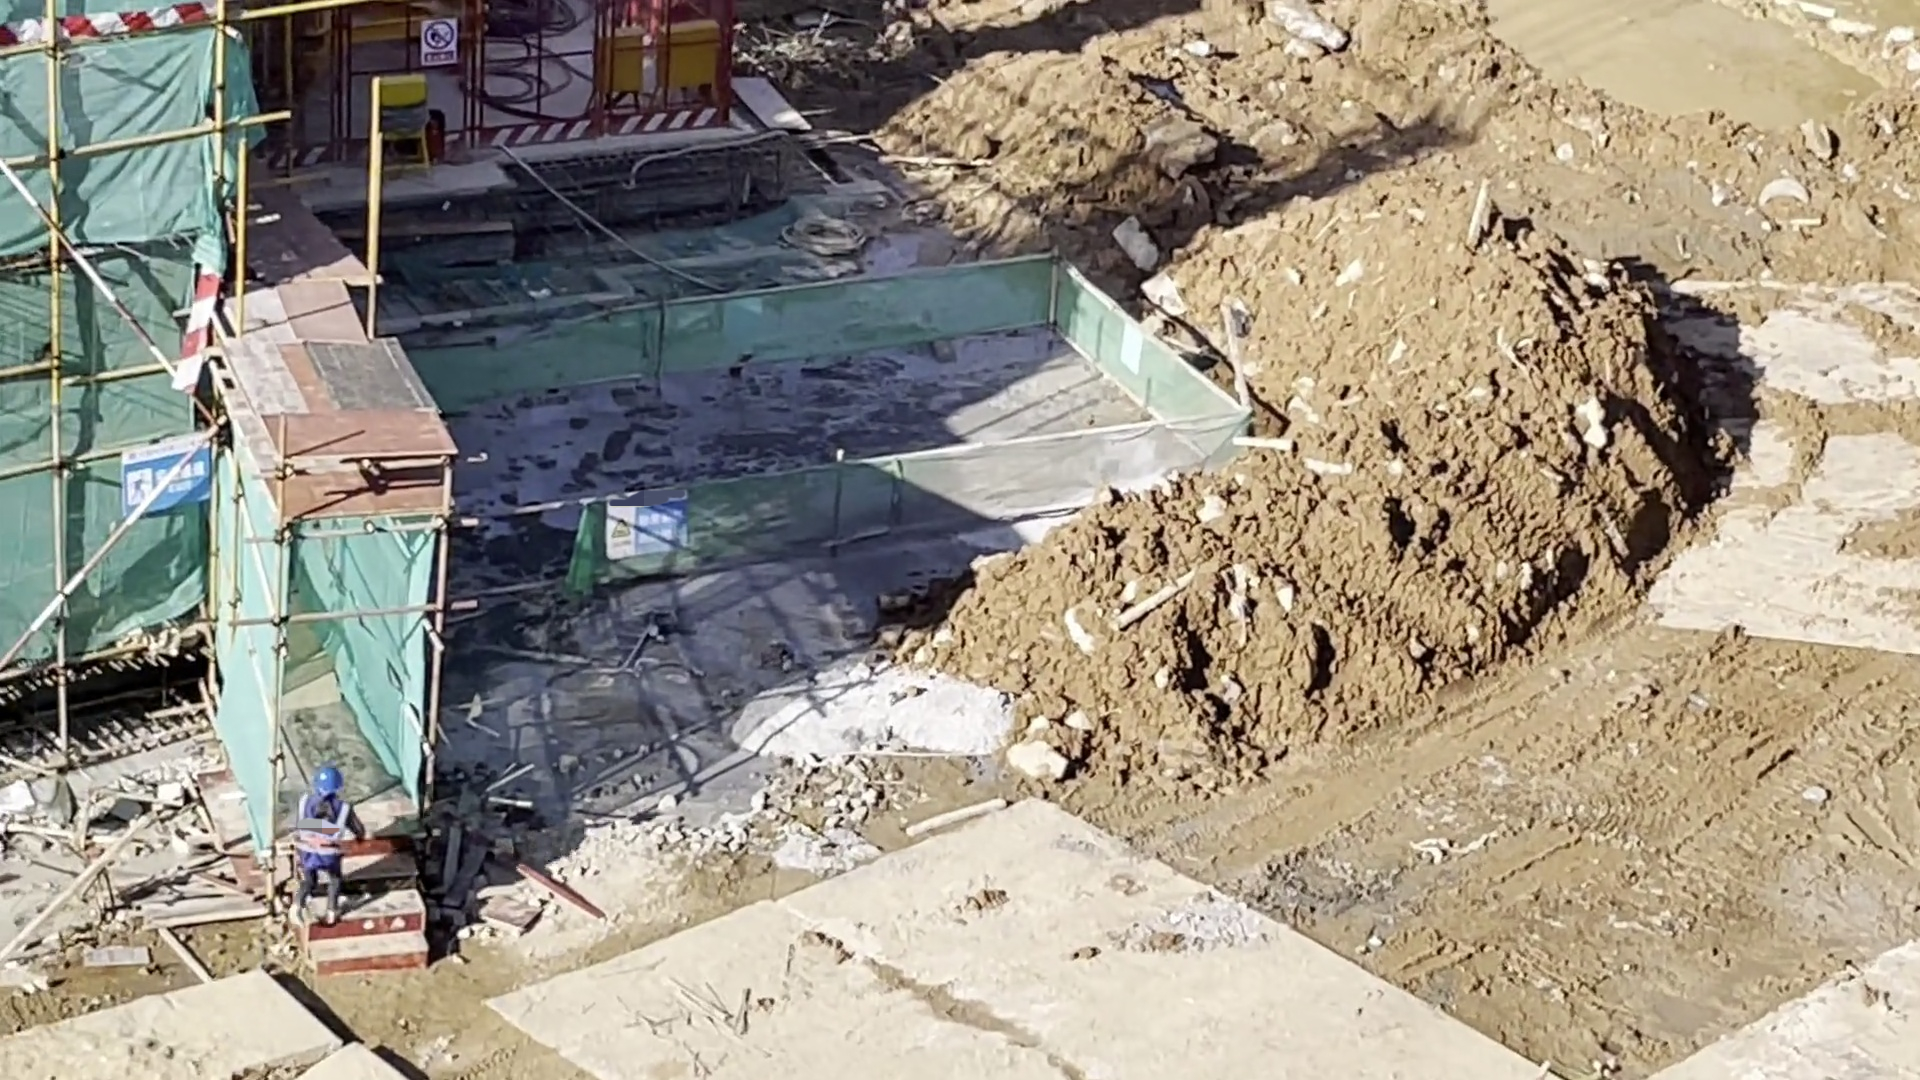ebox: (666, 26, 719, 94), (591, 31, 641, 100)
helmet: (307, 763, 344, 796)
person: (289, 764, 370, 931)
slogan: (598, 505, 705, 562), (115, 452, 211, 508), (420, 26, 463, 69)
vest: (296, 799, 350, 870)
